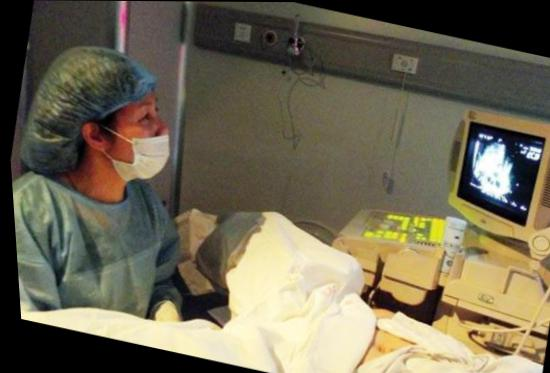WRONG: (77, 87, 183, 189)
